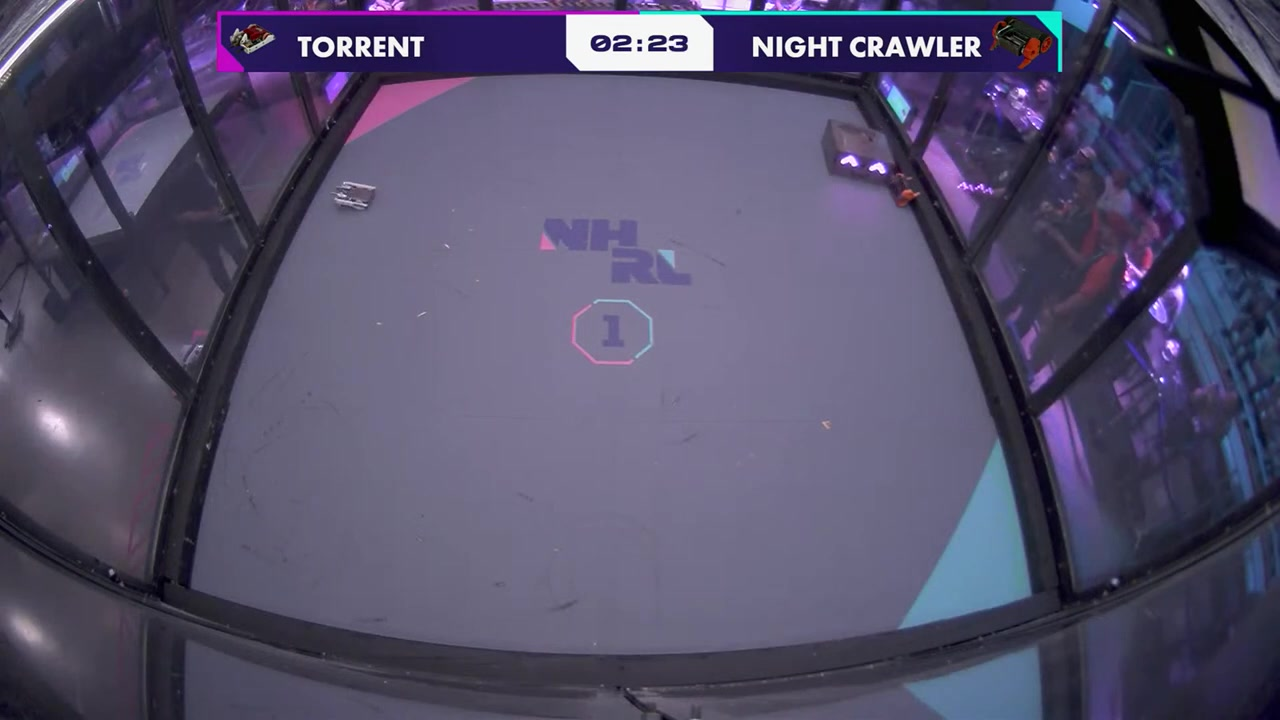combatbot: (331, 181, 377, 212), (891, 172, 920, 207)
housebot: (822, 120, 894, 184)
